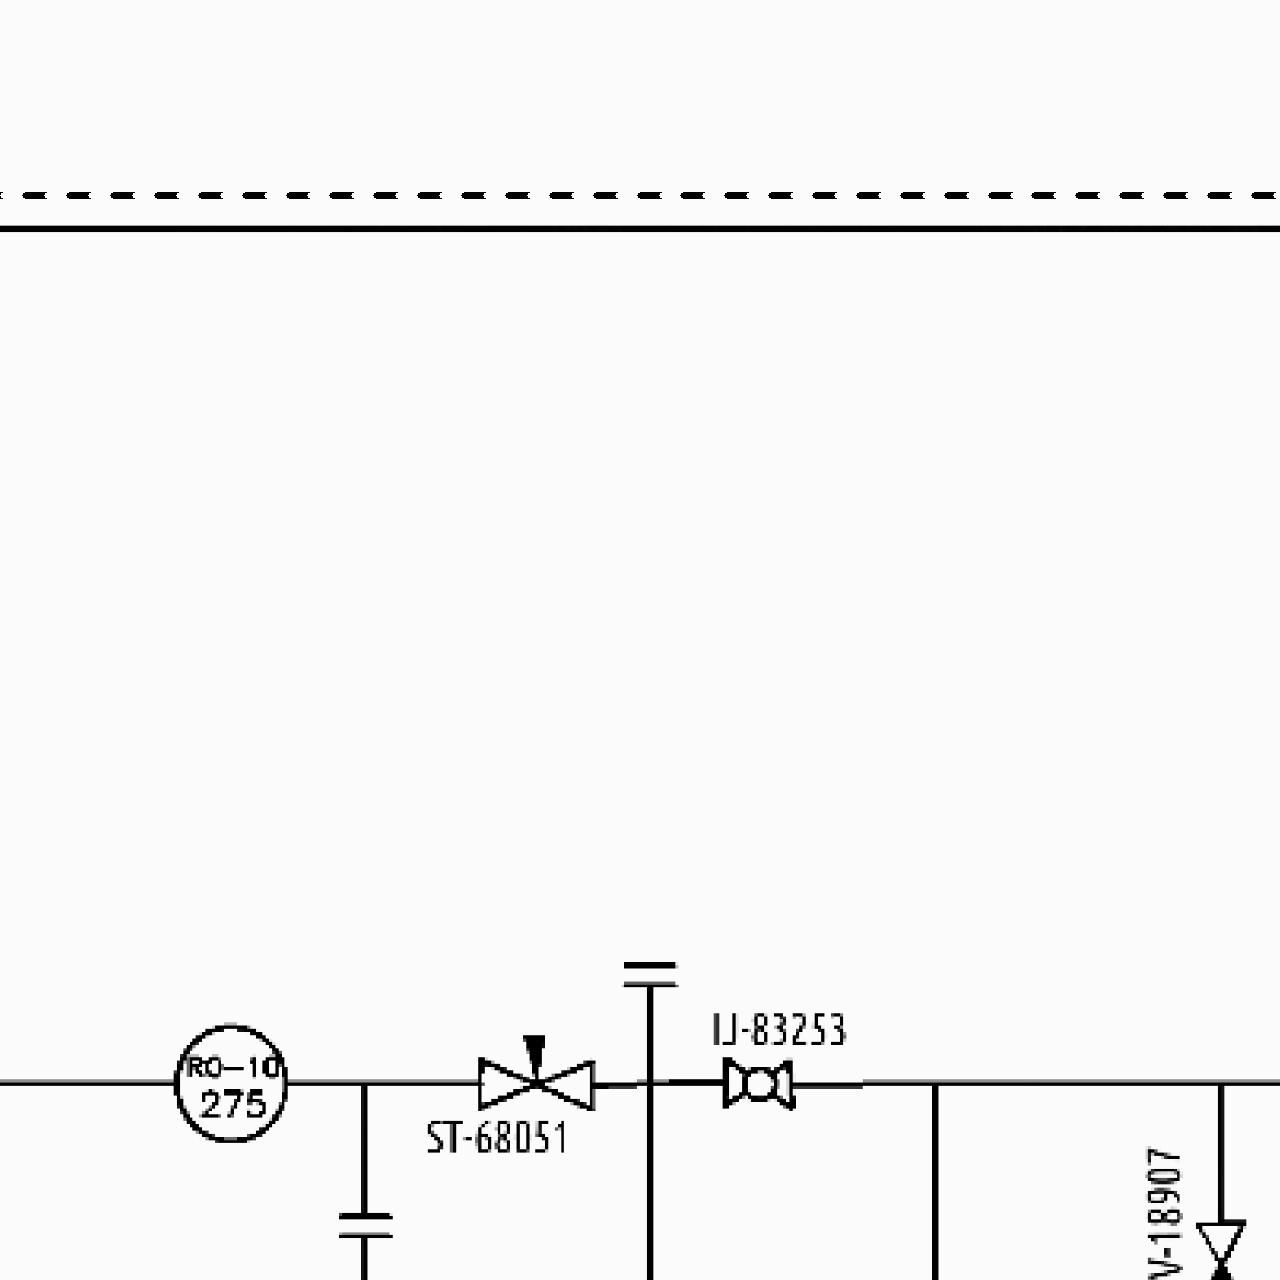Control-Panel: (167, 1019, 294, 1146)
